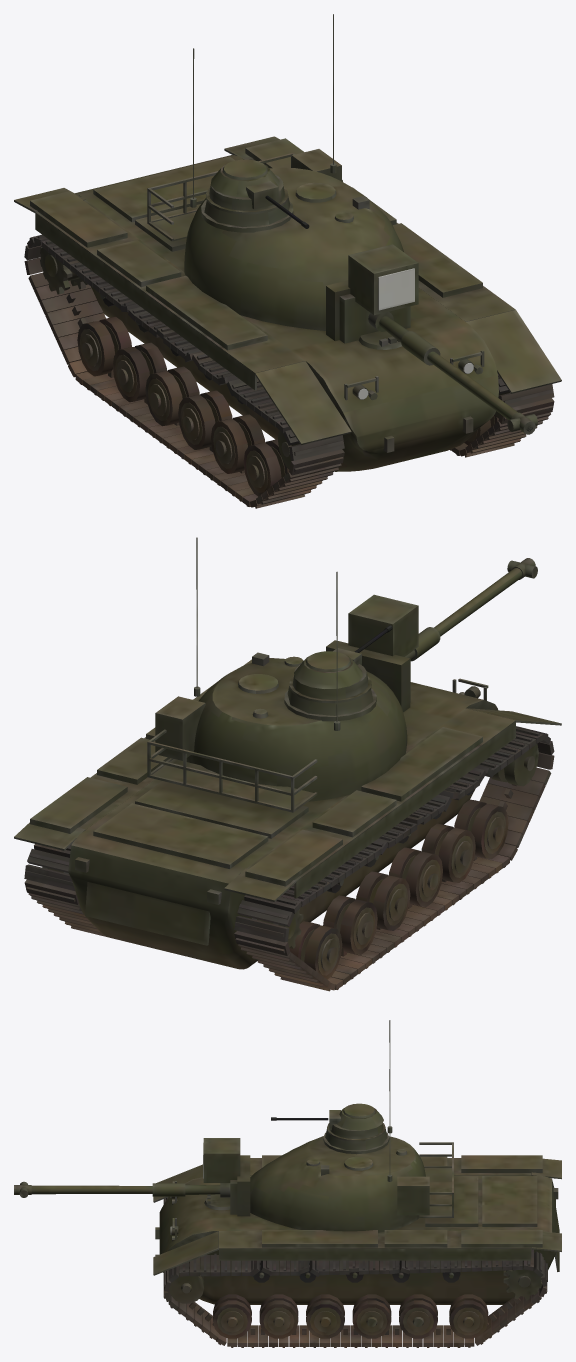
The picture shows the model from 3 angles, top to bottom: view 1: azimuth 30°, elevation 25°; view 2: azimuth 150°, elevation 25°; view 3: azimuth 270°, elevation 25°; orthographic projection. The views are drawn at different scales.
Visible parts, largest first — view 1: than, thap, xich_phai, nong, den_xenon, xich_trai, vom_chi_huy, banh_phai_6, banh_phai_4, banh_phai_3, banh_phai_2, banh_phai_5 (+5 smaller); view 2: than, thap, xich_phai, den_xenon, xich_trai, vom_chi_huy, banh_phai_5, nong, banh_phai_1, banh_phai_2, banh_phai_4, banh_phai_3 (+4 smaller); view 3: than, thap, xich_trai, nong, den_xenon, banh_trai_4, banh_trai_2, banh_trai_6, banh_trai_5, banh_trai_1, banh_trai_3, vom_chi_huy (+2 smaller).
Boxes of the visible parts, x1=… form: than: x1=14, y1=136, x2=561, y2=471; thap: x1=147, y1=149, x2=403, y2=340; xich_phai: x1=24, y1=234, x2=344, y2=508; nong: x1=339, y1=294, x2=537, y2=434; den_xenon: x1=348, y1=244, x2=418, y2=315; xich_trai: x1=450, y1=373, x2=554, y2=457; vom_chi_huy: x1=209, y1=164, x2=285, y2=210; banh_phai_6: x1=77, y1=317, x2=131, y2=376; banh_phai_4: x1=145, y1=366, x2=199, y2=426; banh_phai_3: x1=178, y1=390, x2=232, y2=449; banh_phai_2: x1=211, y1=414, x2=265, y2=473; banh_phai_5: x1=112, y1=342, x2=166, y2=402; than: x1=14, y1=658, x2=561, y2=969; thap: x1=147, y1=640, x2=410, y2=812; xich_phai: x1=234, y1=726, x2=554, y2=991; den_xenon: x1=348, y1=594, x2=418, y2=656; xich_trai: x1=24, y1=844, x2=108, y2=937; vom_chi_huy: x1=292, y1=648, x2=368, y2=699; banh_phai_5: x1=323, y1=895, x2=377, y2=954; nong: x1=405, y1=558, x2=537, y2=702; banh_phai_1: x1=454, y1=799, x2=508, y2=859; banh_phai_2: x1=421, y1=823, x2=475, y2=882; banh_phai_4: x1=356, y1=871, x2=410, y2=930; banh_phai_3: x1=388, y1=847, x2=442, y2=906; than: x1=153, y1=1155, x2=561, y2=1304; thap: x1=237, y1=1123, x2=453, y2=1232; xich_trai: x1=163, y1=1249, x2=547, y2=1347; nong: x1=14, y1=1180, x2=237, y2=1214; den_xenon: x1=203, y1=1138, x2=240, y2=1182; banh_trai_4: x1=352, y1=1294, x2=391, y2=1338; banh_trai_2: x1=259, y1=1294, x2=298, y2=1338; banh_trai_6: x1=449, y1=1294, x2=488, y2=1338; banh_trai_5: x1=399, y1=1294, x2=437, y2=1338; banh_trai_1: x1=213, y1=1294, x2=251, y2=1338; banh_trai_3: x1=306, y1=1294, x2=344, y2=1338; vom_chi_huy: x1=329, y1=1106, x2=383, y2=1138.
Bounding box in the file's own units: 3.63 × 4.83 × 9.3.
1 material, 1 textured.
